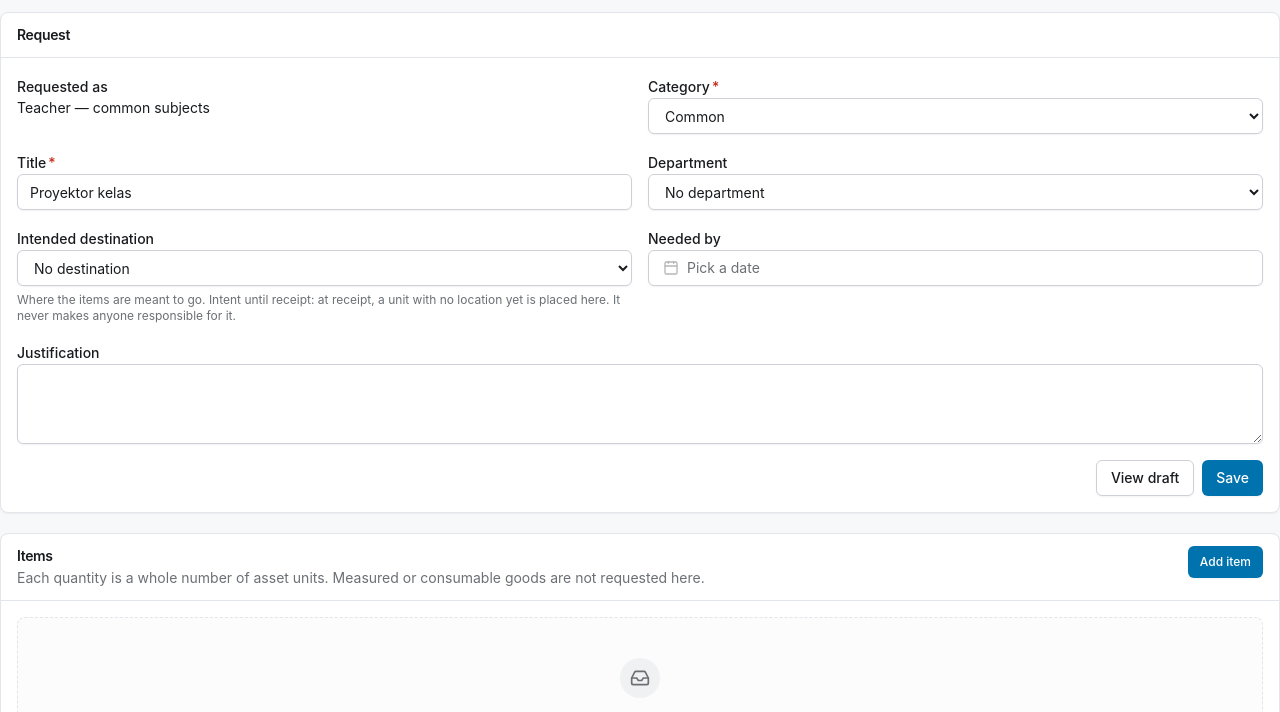
Scenario: the form — editing a draft and its items › clears the blocker once an item is added, with no refresh
Click the button "Add item" at (1225, 562), box [1188,546,1263,578]
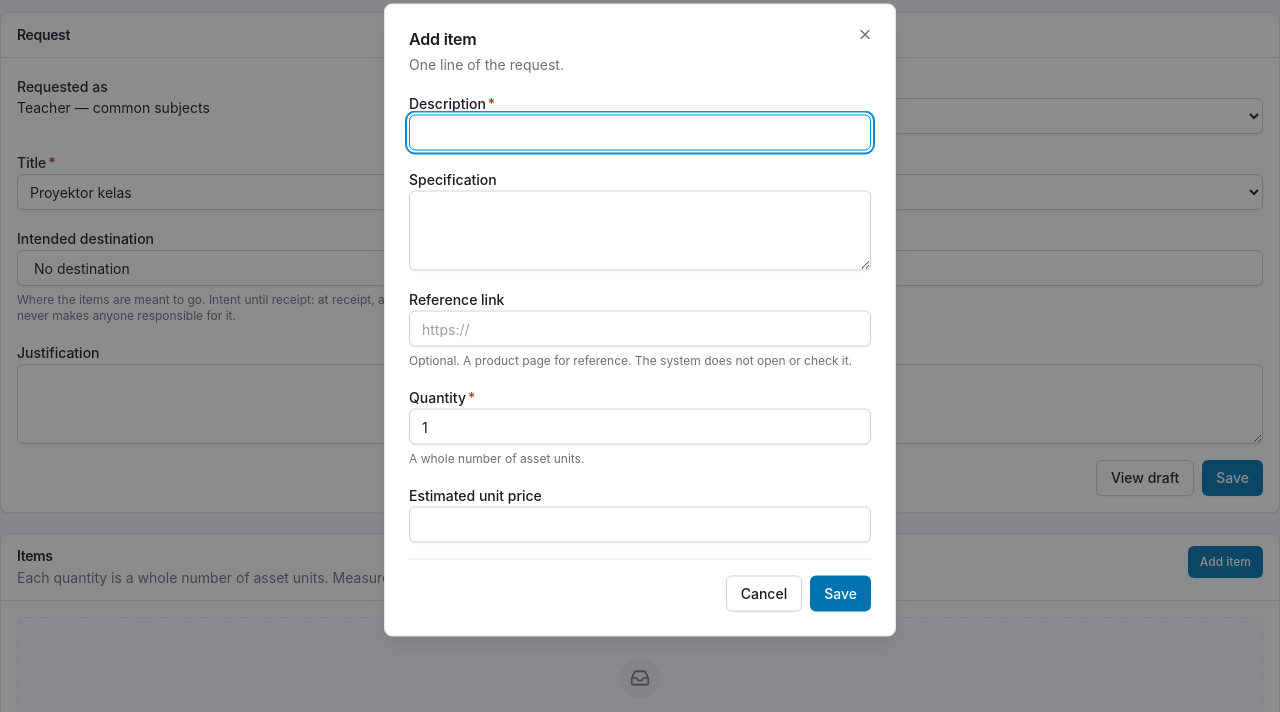
Type "Proyektor" into the field labelled "Description*" at (640, 132), box [409,114,871,150]
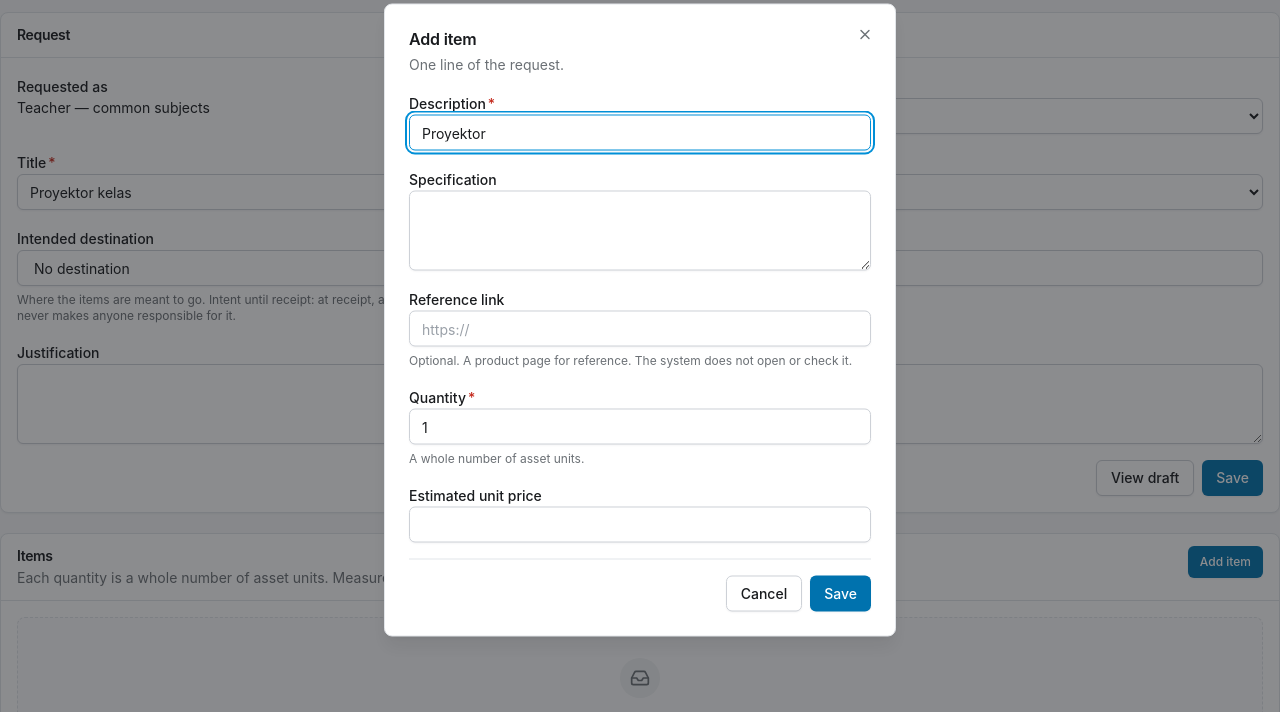
Click the button "Save" at (841, 594), box [810,576,871,612]
(page scrolled)
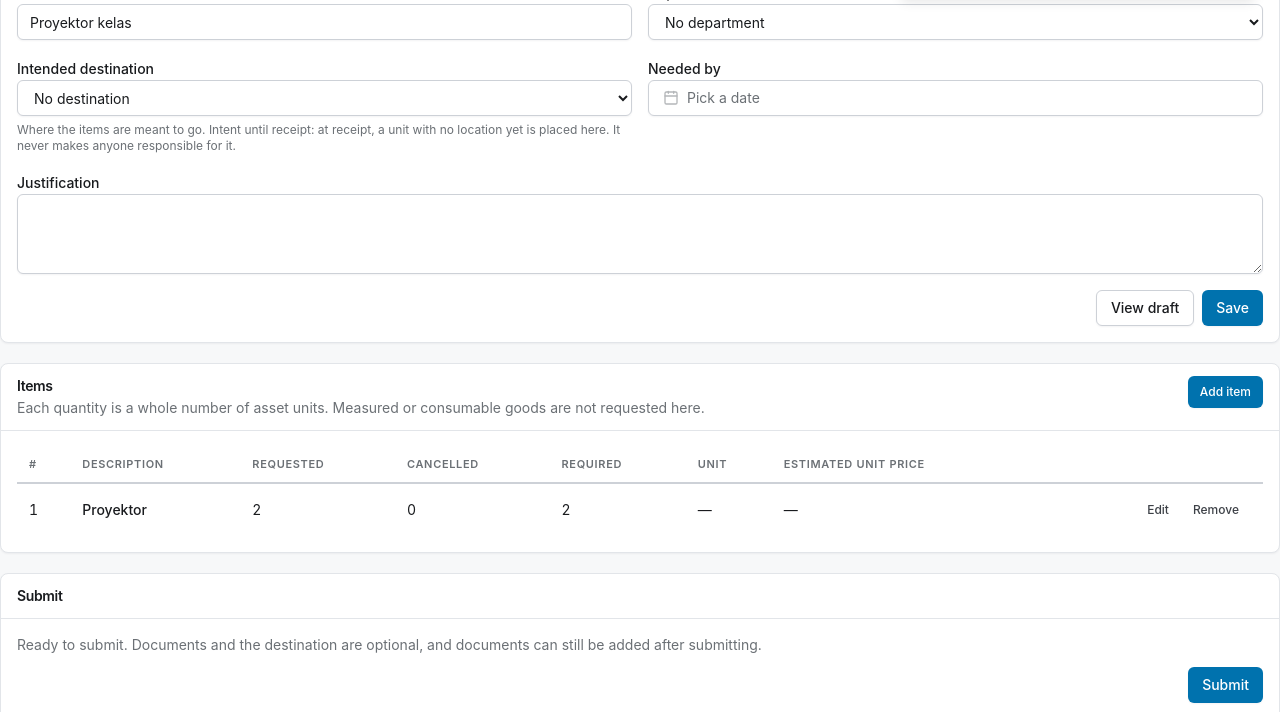
Expected: the button "Submit" is enabled, [1188,667,1263,703]
